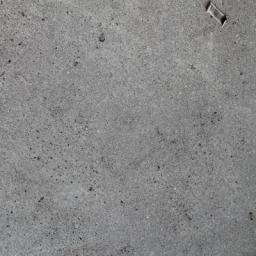FOD: (202, 1, 232, 29)
